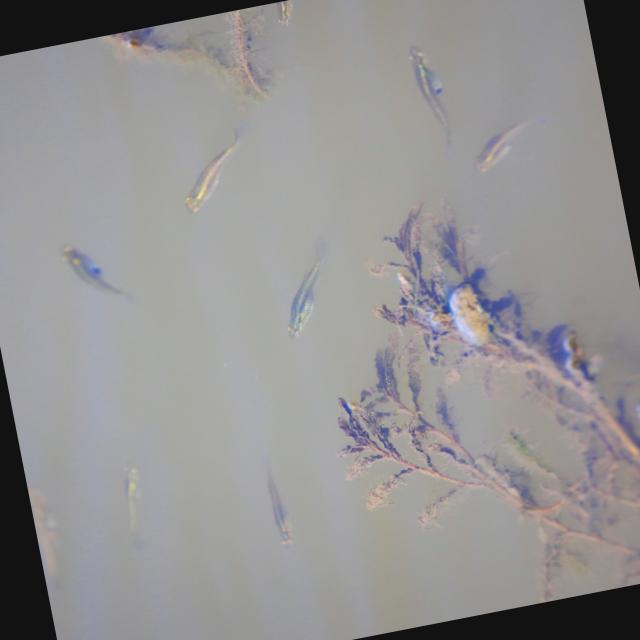Sivrisinek Baligi: (166, 127, 257, 215), (51, 236, 130, 314), (402, 48, 457, 156), (269, 252, 338, 337), (100, 456, 156, 552), (468, 119, 540, 178), (256, 459, 301, 550), (265, 0, 306, 32)
